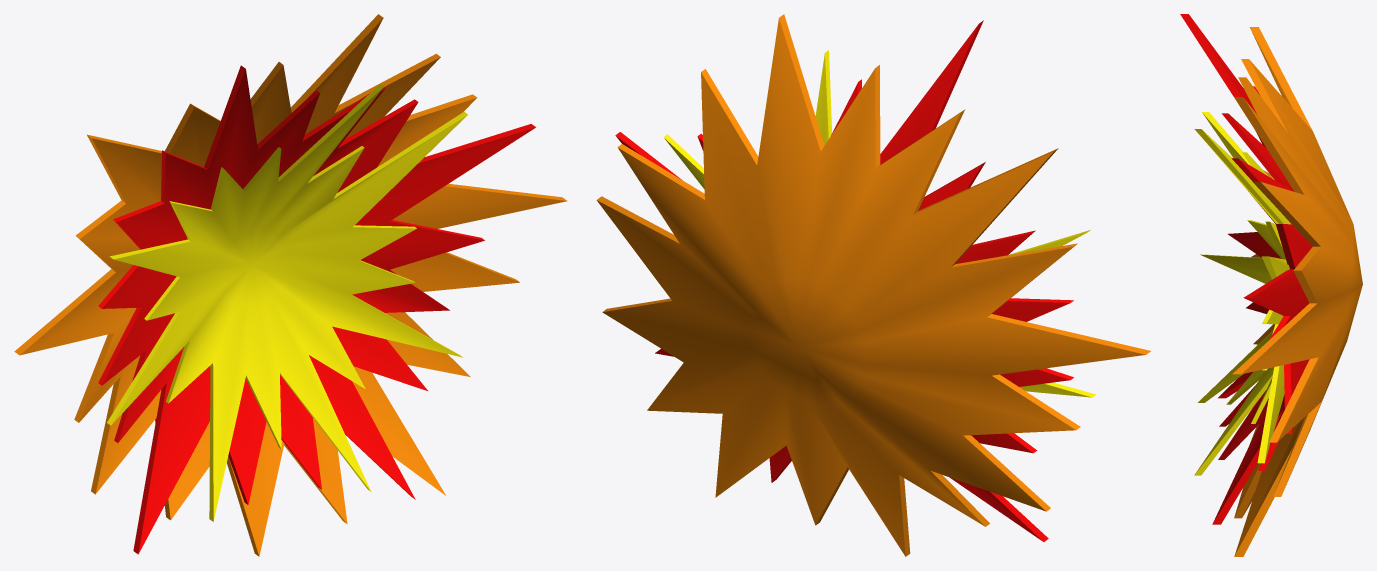
File: fire_decal.glb
The picture shows the model from 3 angles, left to right: view 1: azimuth 30°, elevation 25°; view 2: azimuth 150°, elevation 25°; view 3: azimuth 270°, elevation 25°; orthographic projection. The views are drawn at different scales.
Visible parts, largest first — view 1: Exp_002; view 2: Exp_002; view 3: Exp_002.
Part boxes in pixels (bbox=[...]): Exp_002: bbox=[14, 14, 567, 556]; Exp_002: bbox=[596, 14, 1150, 556]; Exp_002: bbox=[1180, 14, 1362, 556].
Size of the model in its own units: 0.192 by 0.1743 by 0.0633.
